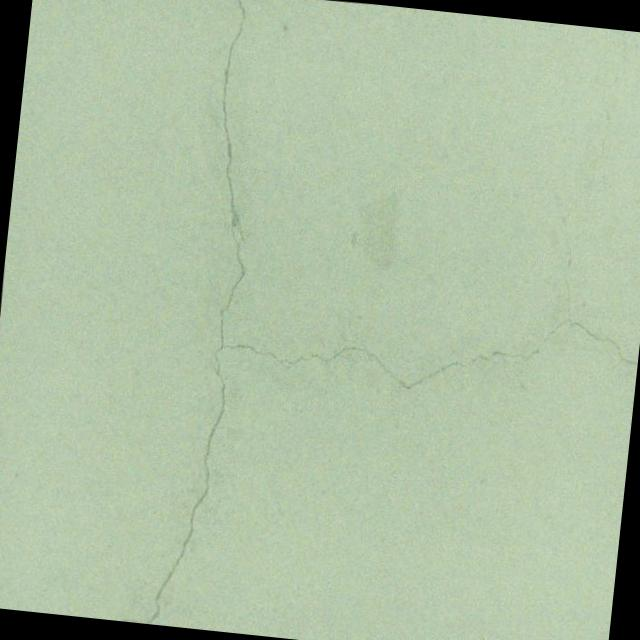crack: (105, 0, 640, 640)
